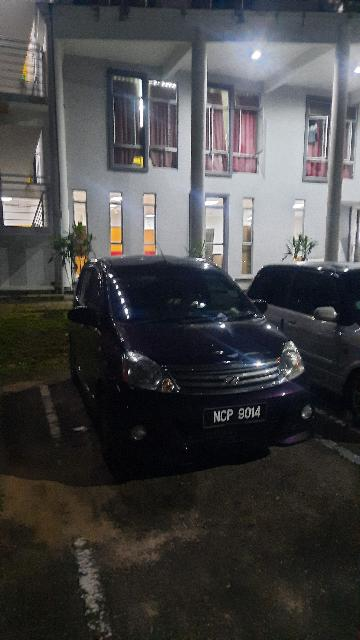License_Plate: (203, 401, 270, 427)
car: (69, 255, 319, 458), (251, 262, 360, 414)
